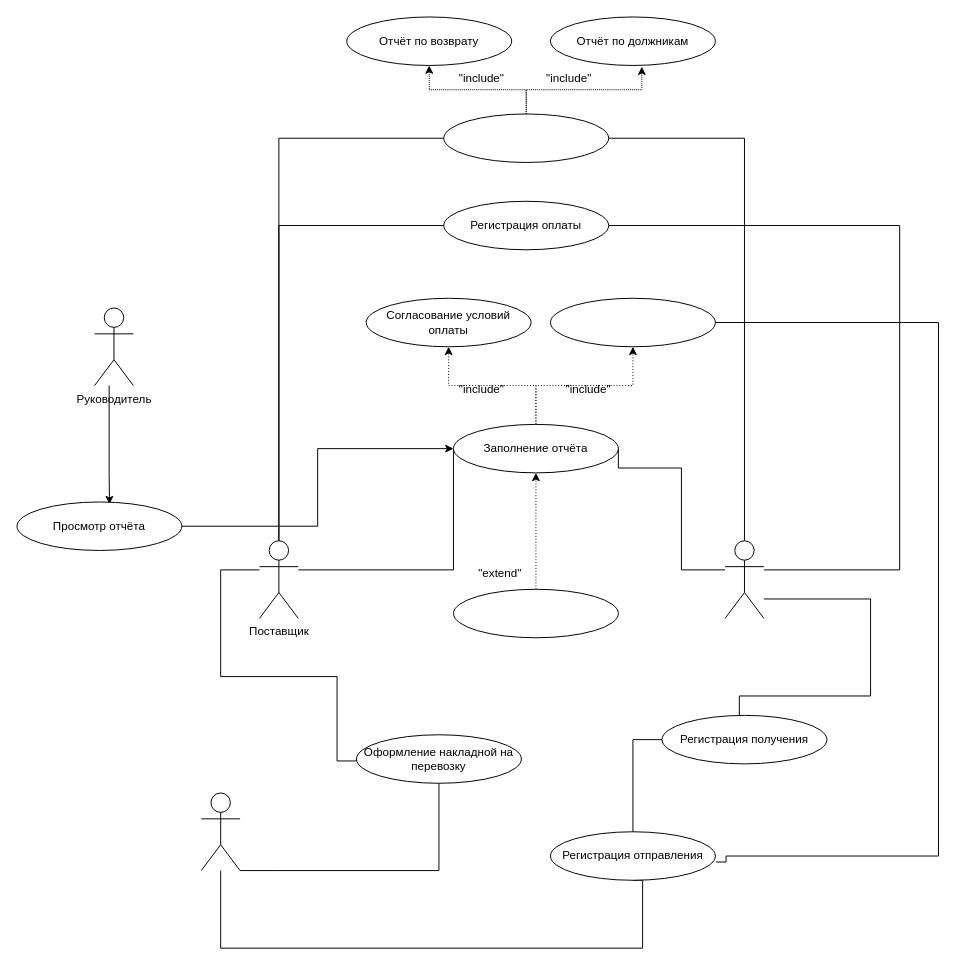
This 956x966 diagram has some shape labels left out. The shapes that lost their labels are listed below. From the top down, each one's centre as x and y in pixels, then its label:
(526,137): Введение отчета по купли\продажи
(632,322): Заказ товара со склада
(744,579): Оптовые покупатели
(535,613): Предоставить каталог
(220,831): Перевозчик
